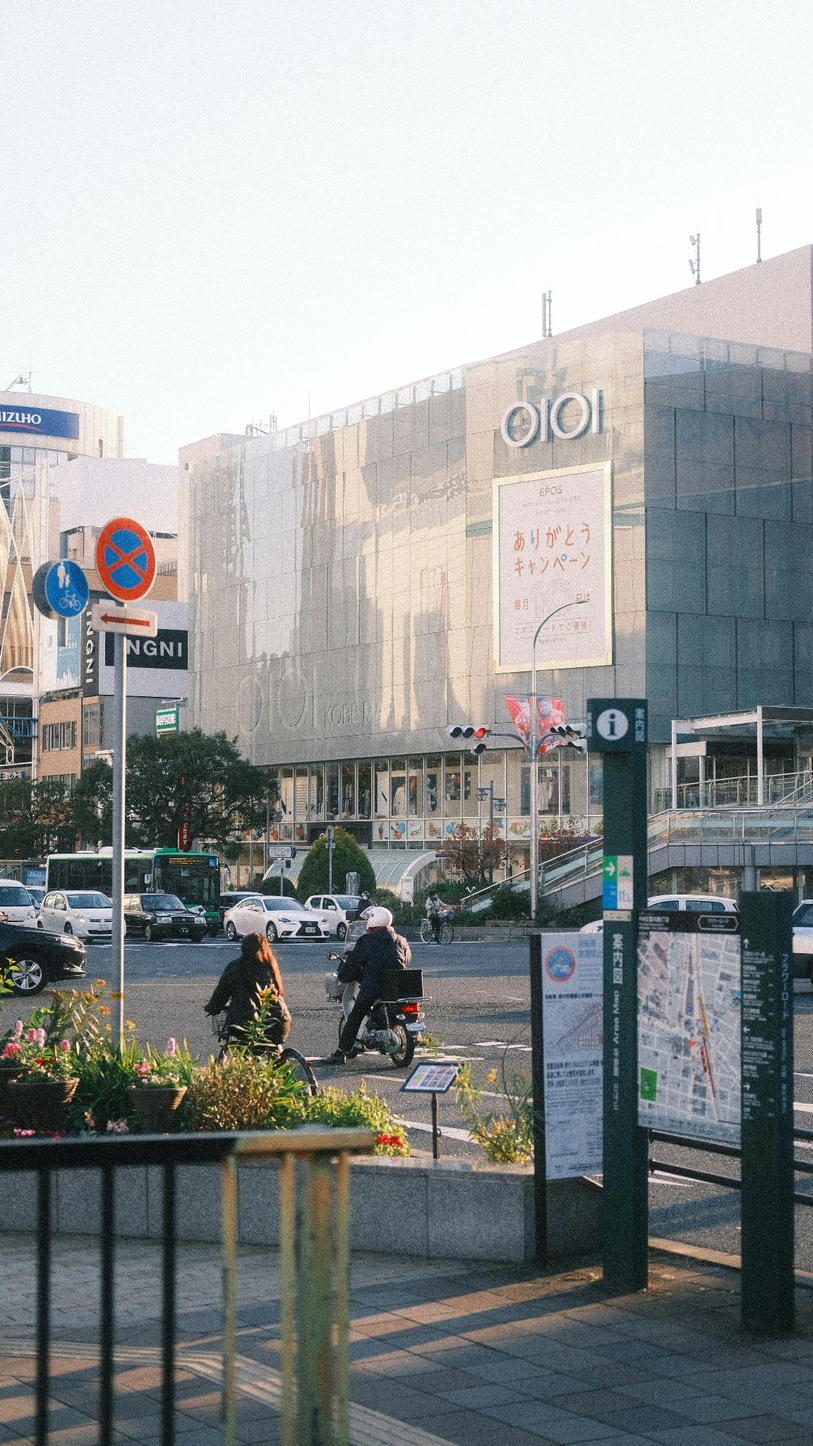stop_sign: (90, 514, 158, 599)
